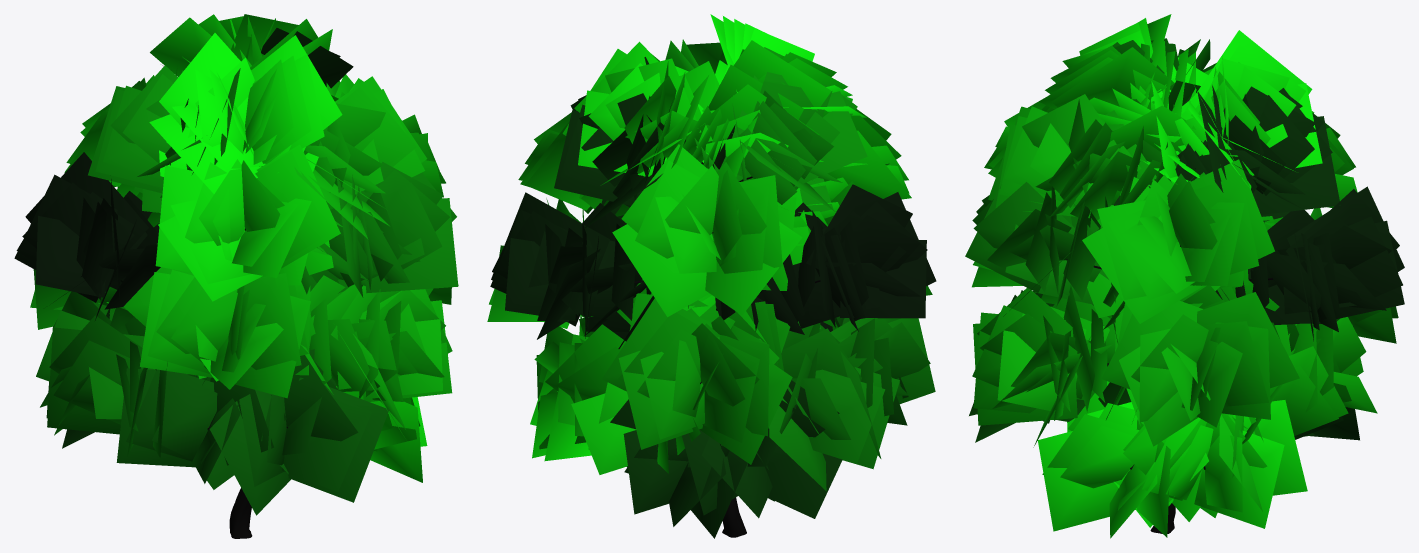
The model's file is Maple_3.fbx.
3 views of the same model, side by side, from view 1: azimuth 30°, elevation 25°; view 2: azimuth 150°, elevation 25°; view 3: azimuth 270°, elevation 25° (orthographic).
Parts seen in each view (by area): view 1: Maple_3; view 2: Maple_3; view 3: Maple_3.
Boxes of the visible parts, x1,y1,x2,y2 form: Maple_3: (14,14,458,538); Maple_3: (487,14,936,538); Maple_3: (965,14,1404,538).
Bounding box in the file's own units: 352 × 408 × 322.
